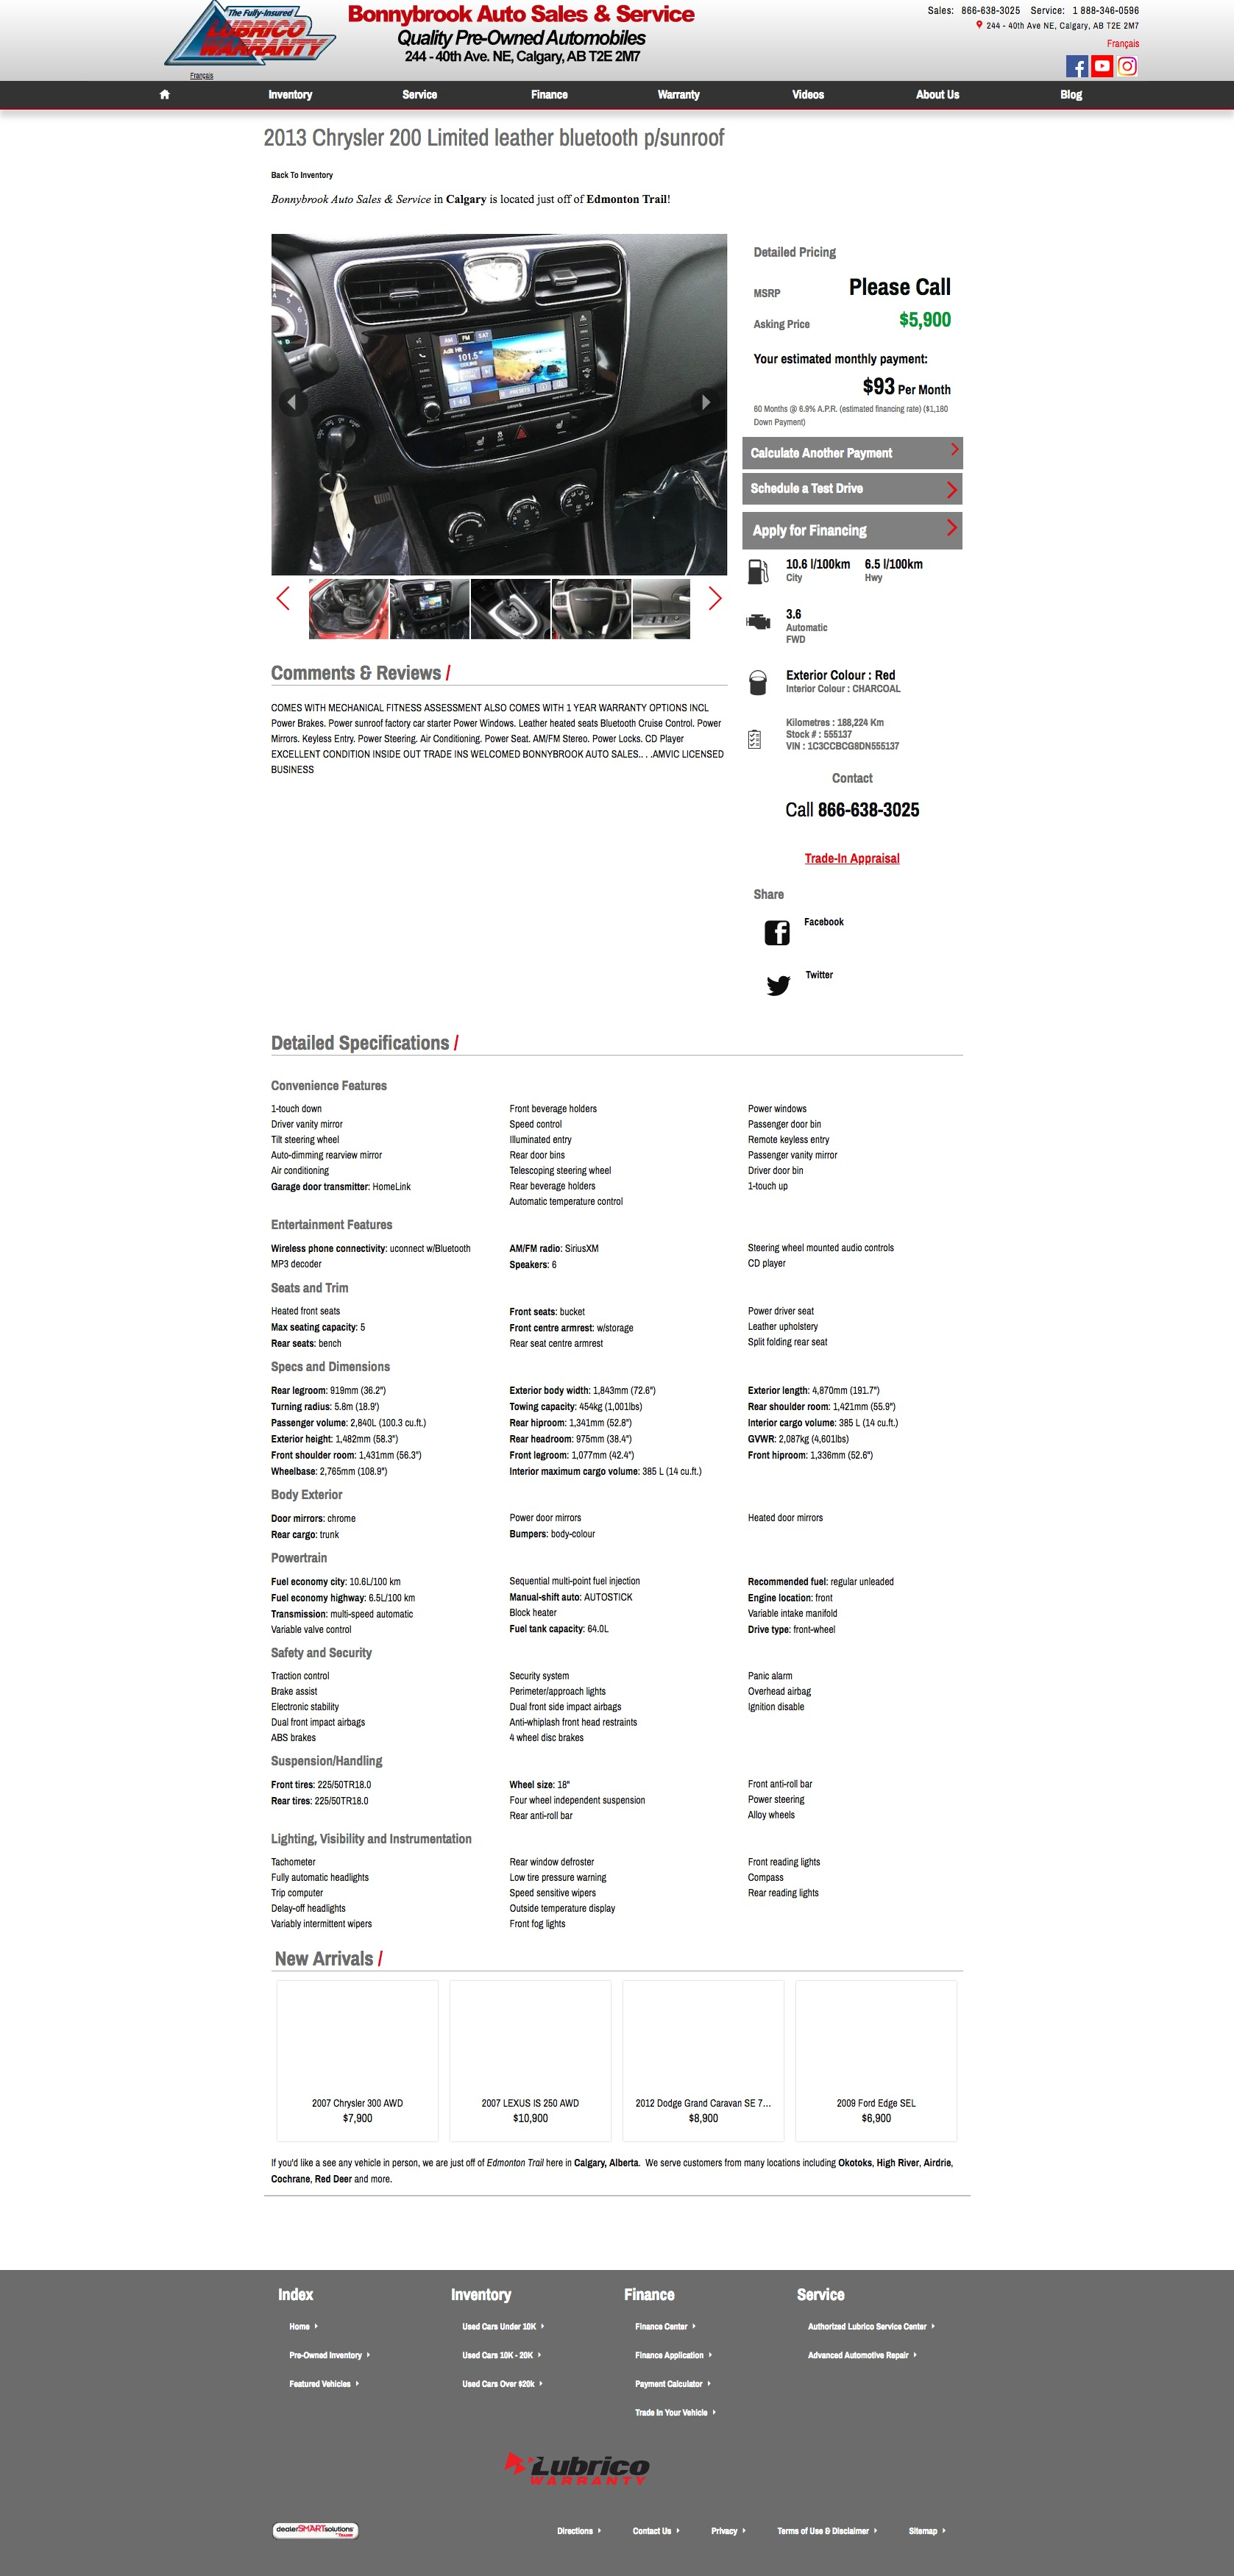car: (707, 585, 726, 613)
